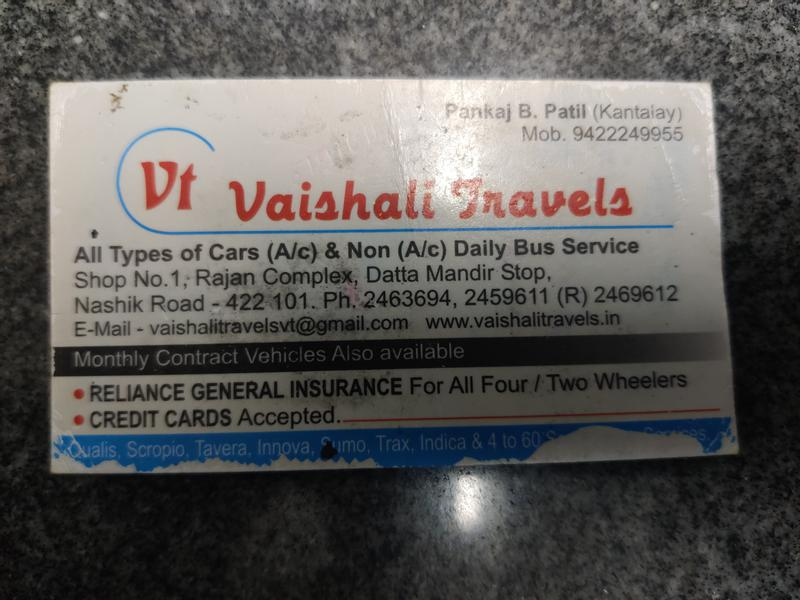card: (45, 77, 742, 475)
